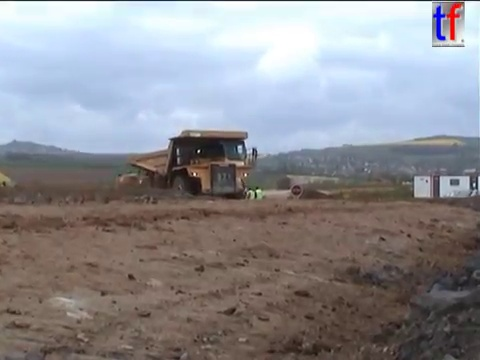excavator: (115, 146, 199, 197)
truck: (124, 127, 260, 201)
worker: (243, 187, 257, 206), (254, 185, 265, 206)
